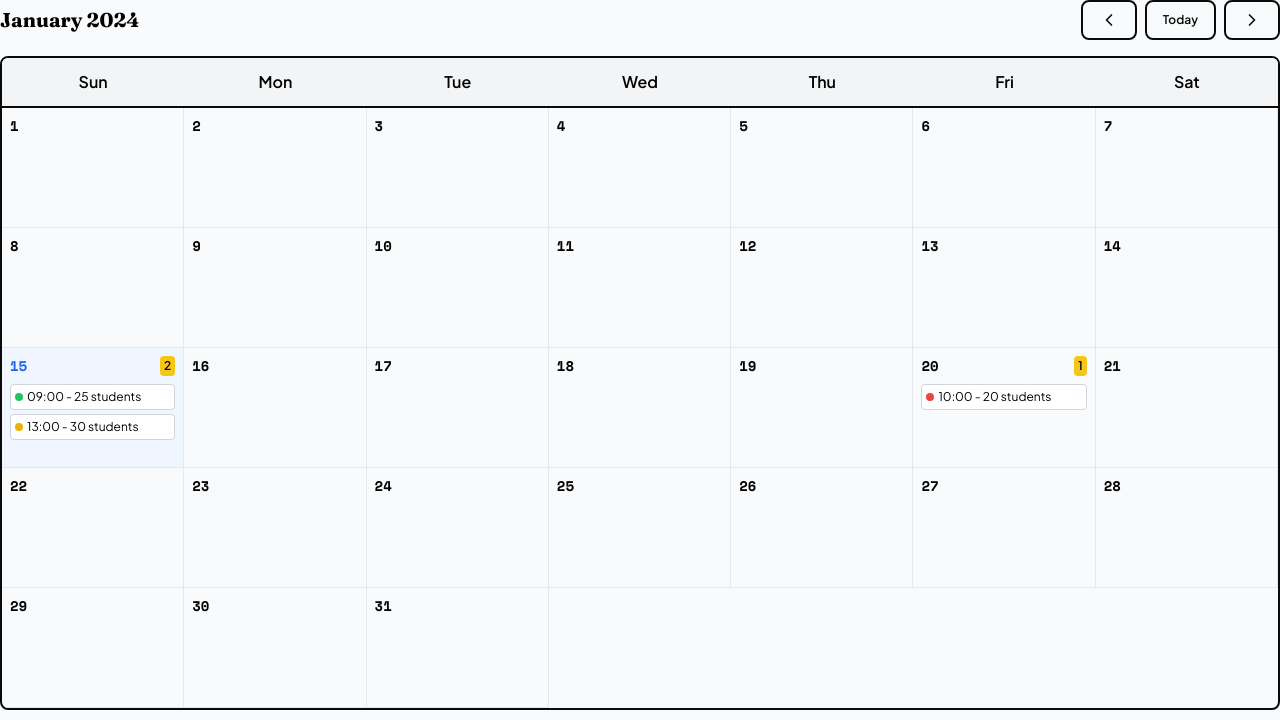
Test: BookingCalendar › closes modal when clicking outside
Note: Open modal
Click the text "15": (19, 366) [10,356,175,376]
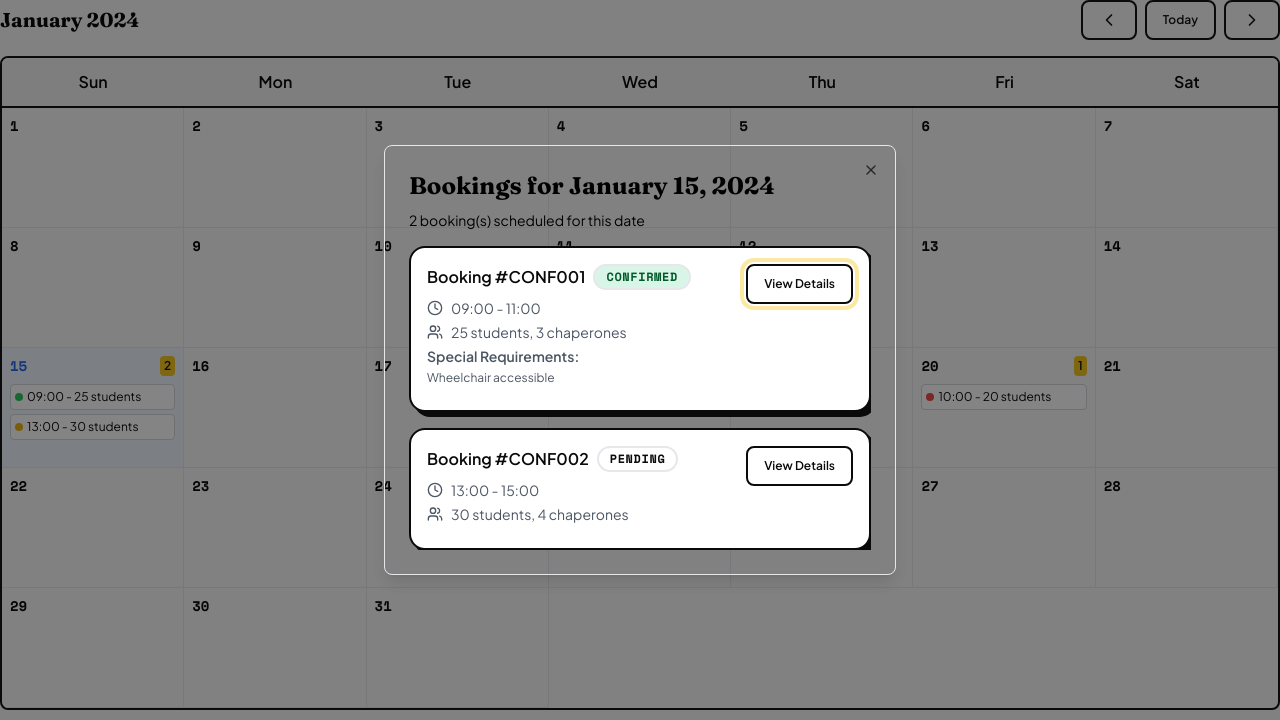
Result: the heading "Bookings for January 15, 2024" is shown at [409,171,775,200]
Note: Press Escape to close modal
Press Escape
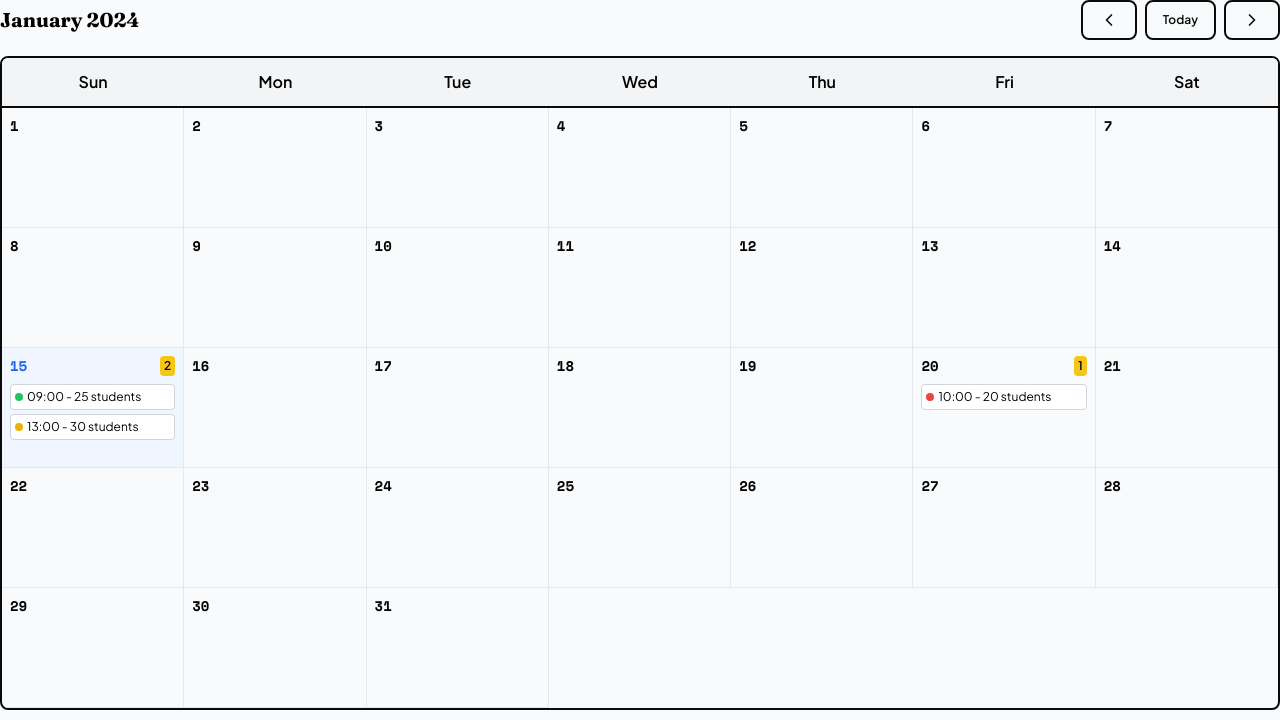
Result: the heading "Bookings for January 15, 2024" is gone
